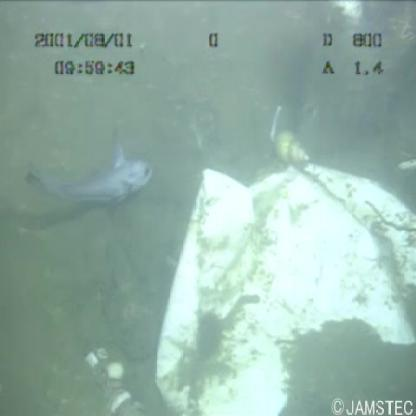Bio: (16, 126, 169, 228), (274, 124, 318, 166)
Rác: (155, 167, 415, 415)
